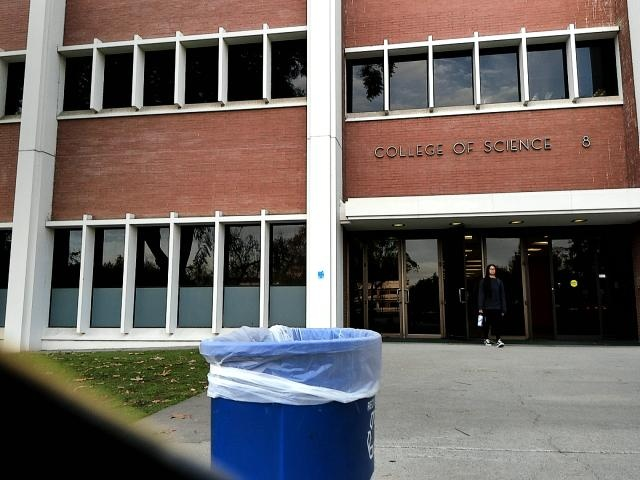trashcan_open: (201, 319, 385, 480)
